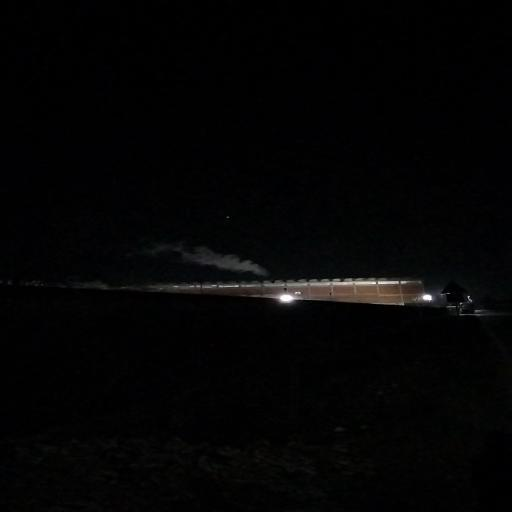leakage: (124, 228, 287, 282)
